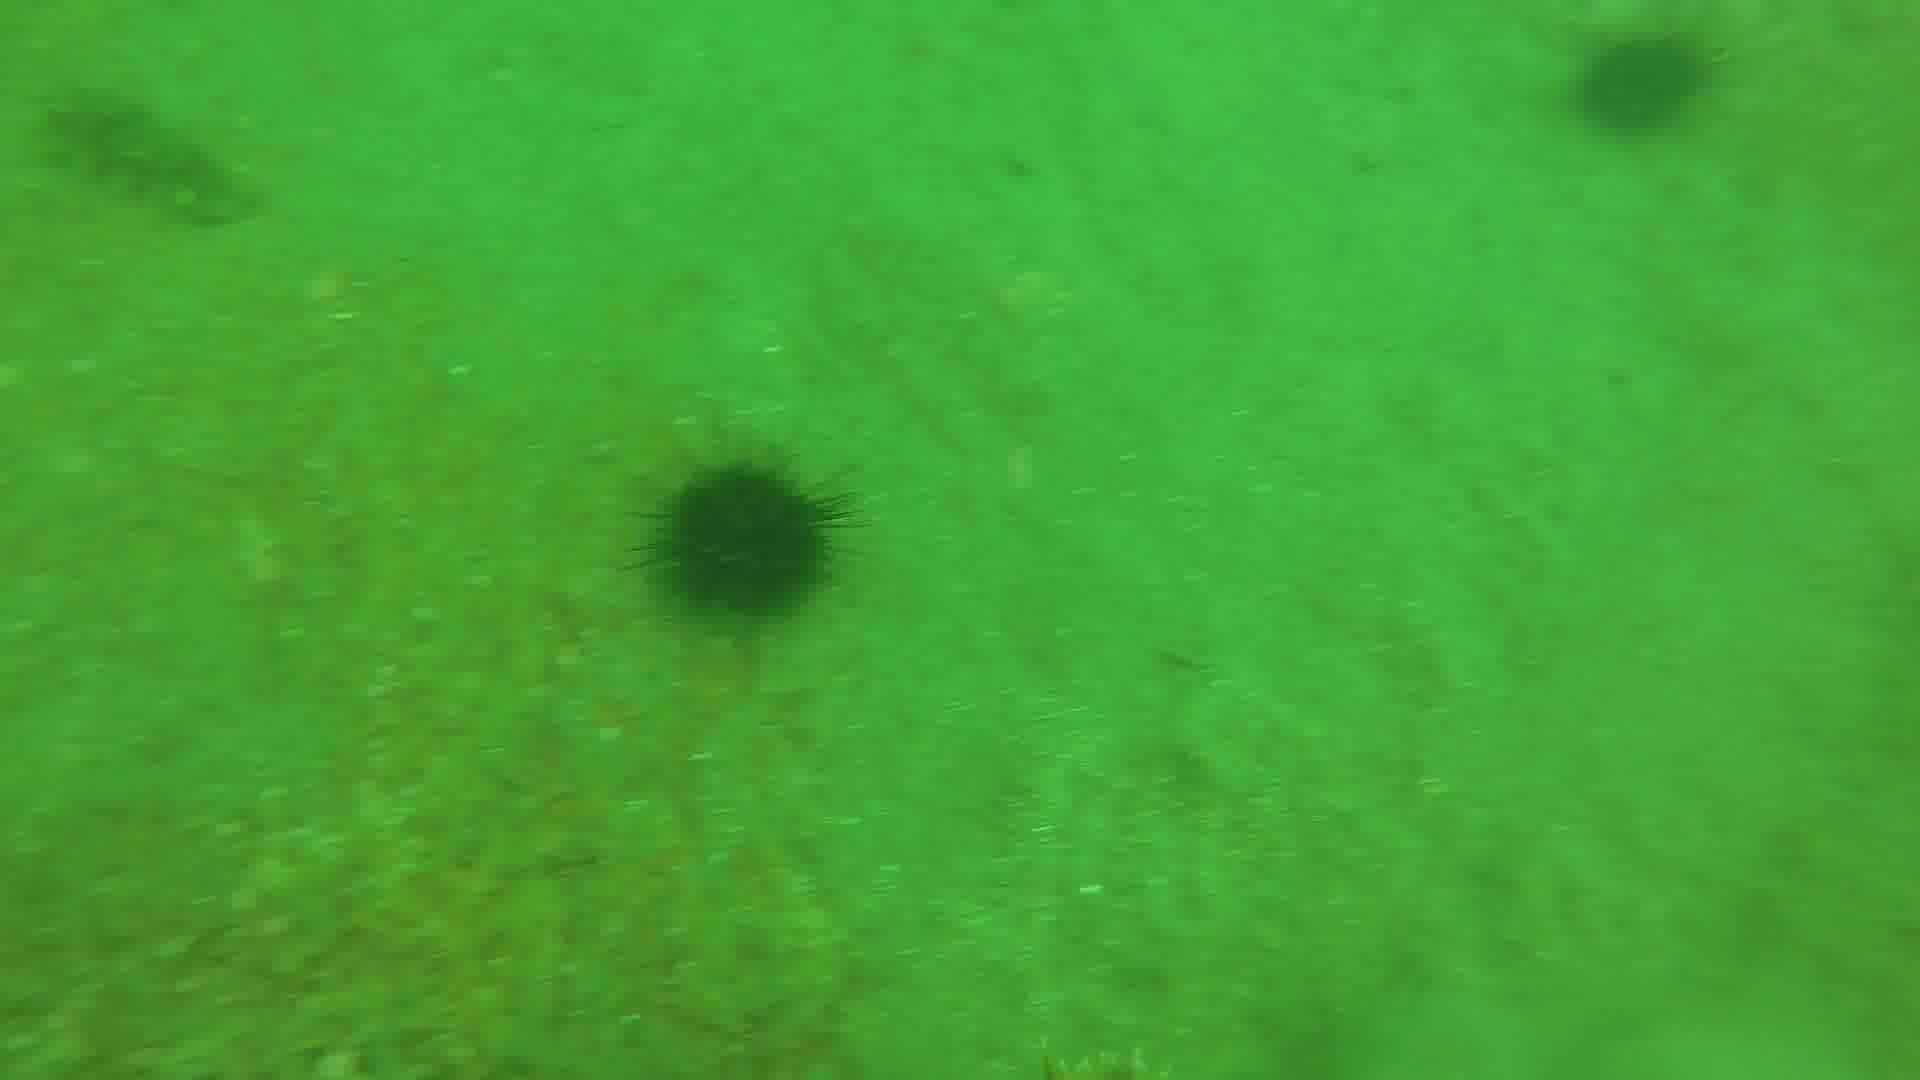echinus: (641, 455, 856, 624), (1571, 29, 1717, 141)
holothurian: (36, 82, 266, 229)
